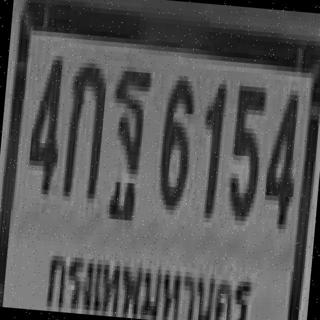A01: (62, 57, 106, 194)
A16: (104, 63, 151, 205)
N01: (195, 78, 226, 214)
N04: (25, 49, 65, 190), (261, 84, 301, 225)
N05: (224, 81, 266, 217)
N06: (155, 70, 195, 206)
P04: (42, 241, 255, 320)
